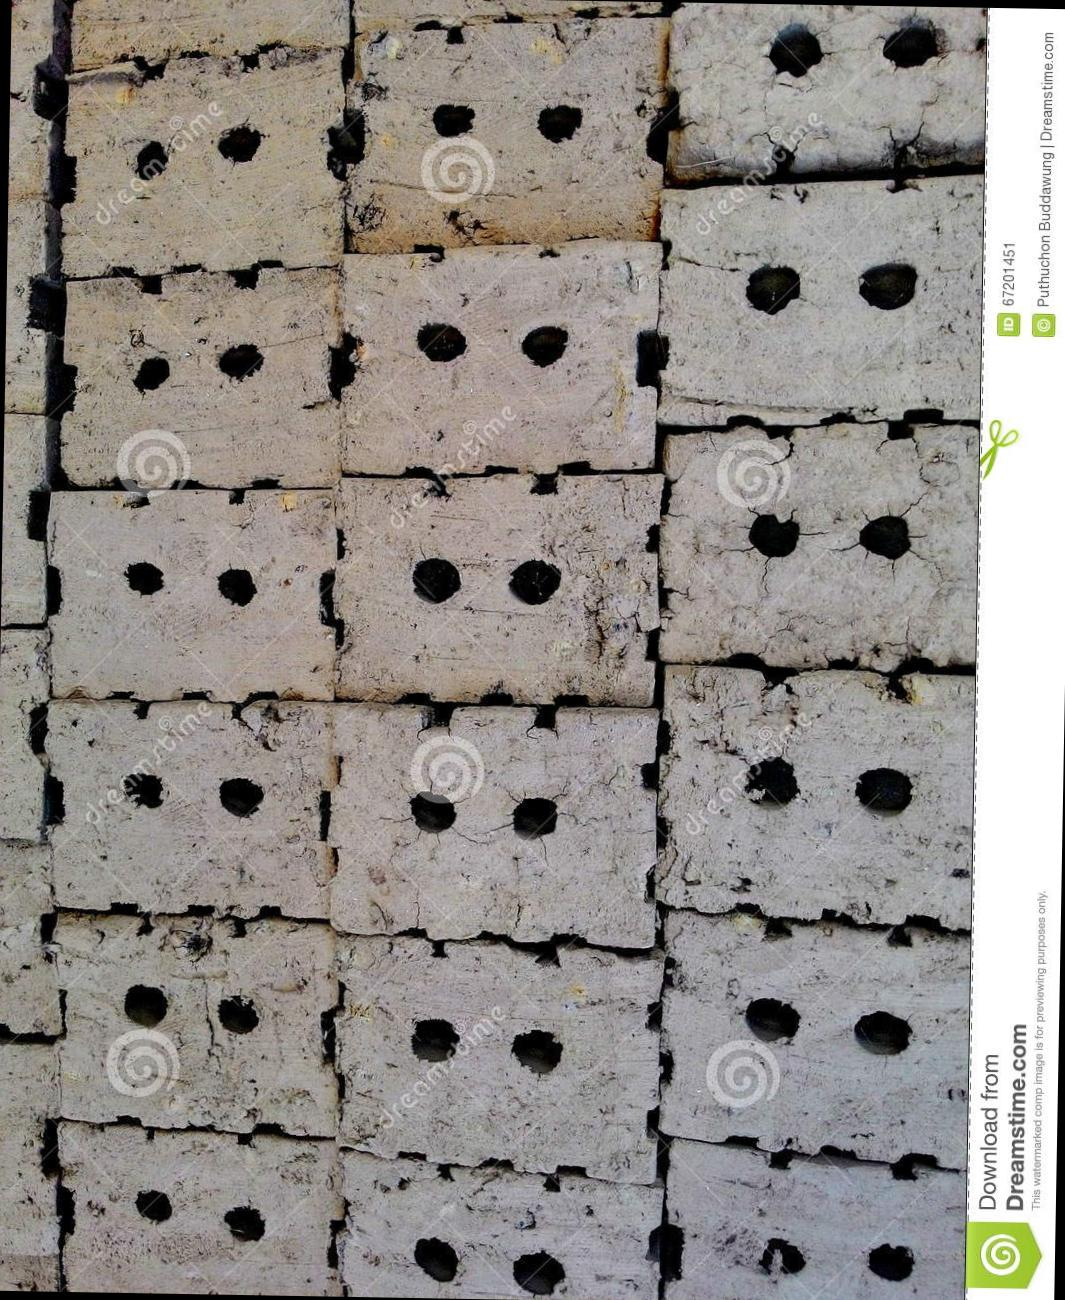brick: (657, 663, 980, 931), (656, 170, 984, 428), (332, 935, 661, 1186), (659, 416, 980, 671), (660, 909, 971, 1170), (327, 703, 659, 948), (340, 231, 662, 480), (331, 466, 661, 704), (346, 13, 666, 257), (60, 42, 348, 279), (49, 911, 340, 1137), (43, 696, 333, 917), (45, 485, 337, 702), (59, 263, 340, 486), (666, 2, 987, 184), (55, 1122, 343, 1297), (334, 1149, 663, 1300), (664, 1138, 963, 1300)
